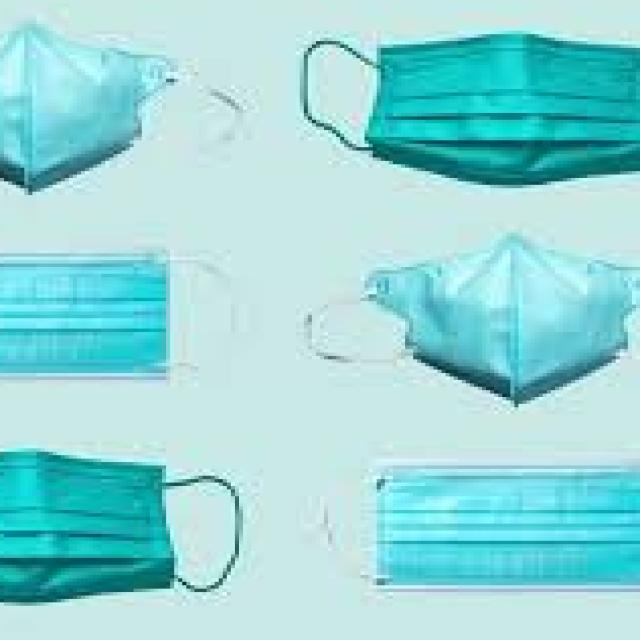organic: (12, 18, 621, 620)
